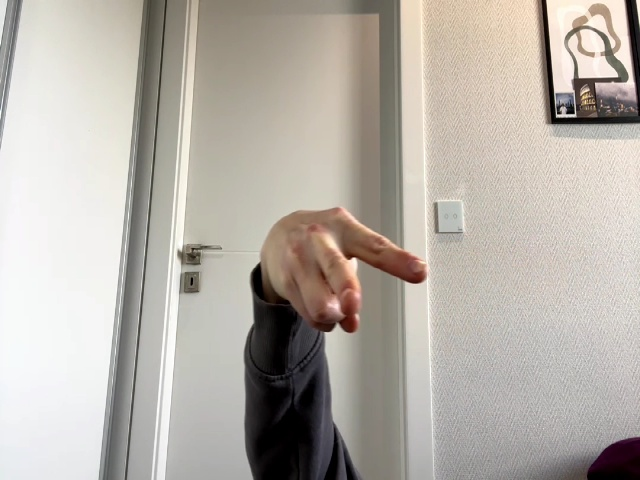U: (259, 207, 428, 333)
